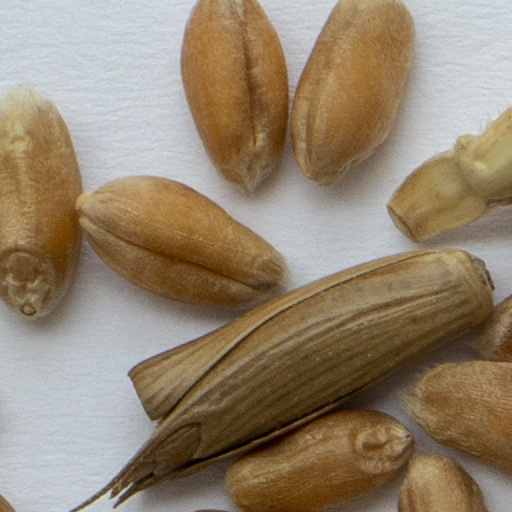Peel-poly: (68, 246, 495, 511), (387, 106, 511, 249)
